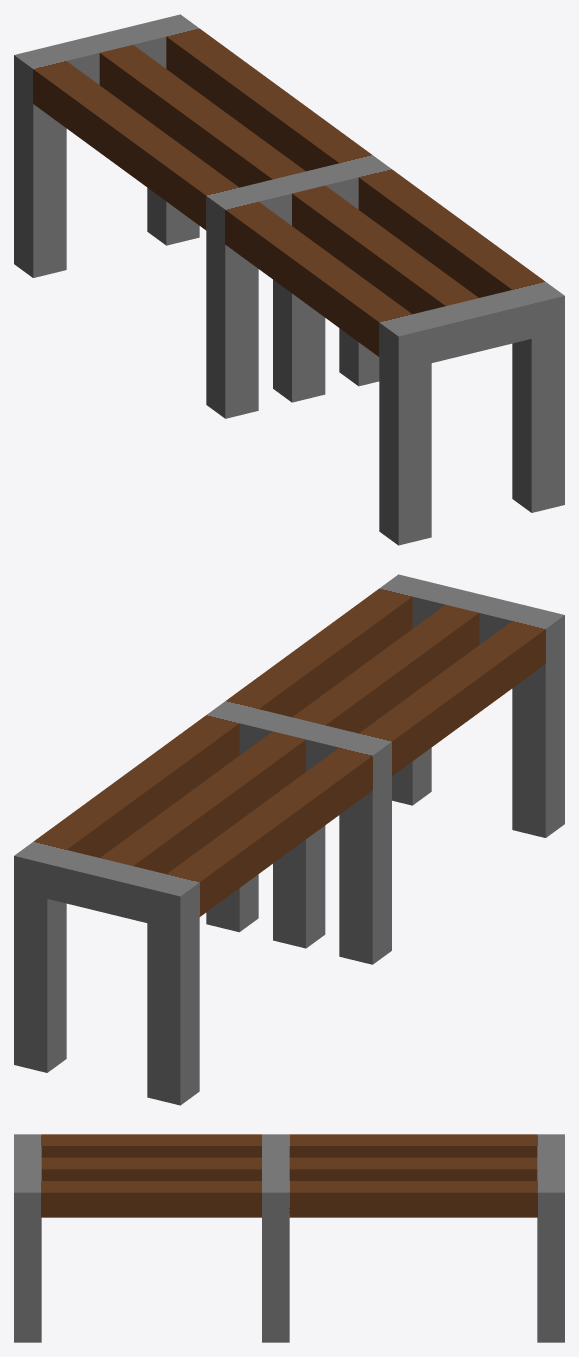
Rendered from bench.dae.
3 views of the same model, one above another, from view 1: azimuth 30°, elevation 25°; view 2: azimuth 150°, elevation 25°; view 3: azimuth 270°, elevation 25° (orthographic). The views are drawn at different scales.
Parts seen in each view (by area): view 1: bench; view 2: bench; view 3: bench.
Boxes of the visible parts, box(x1,y1,x2,y2) form: bench: box(14, 14, 564, 545); bench: box(14, 574, 564, 1105); bench: box(14, 1134, 564, 1342).
Bounding box in the file's own units: 0.5 × 0.6 × 2.
1 material, 1 textured.
